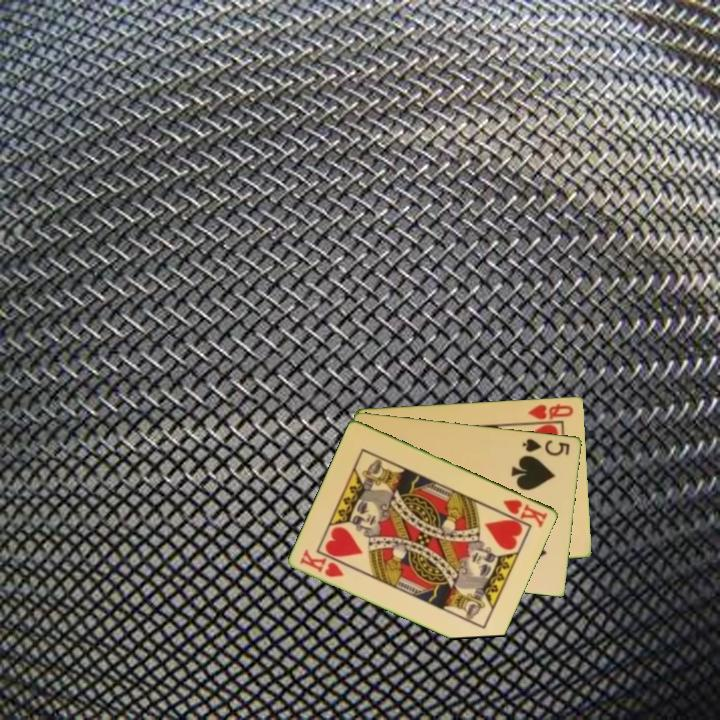5s: (519, 435, 573, 459)
Kh: (500, 495, 551, 530), (296, 545, 347, 580)
Qh: (525, 400, 576, 422)
